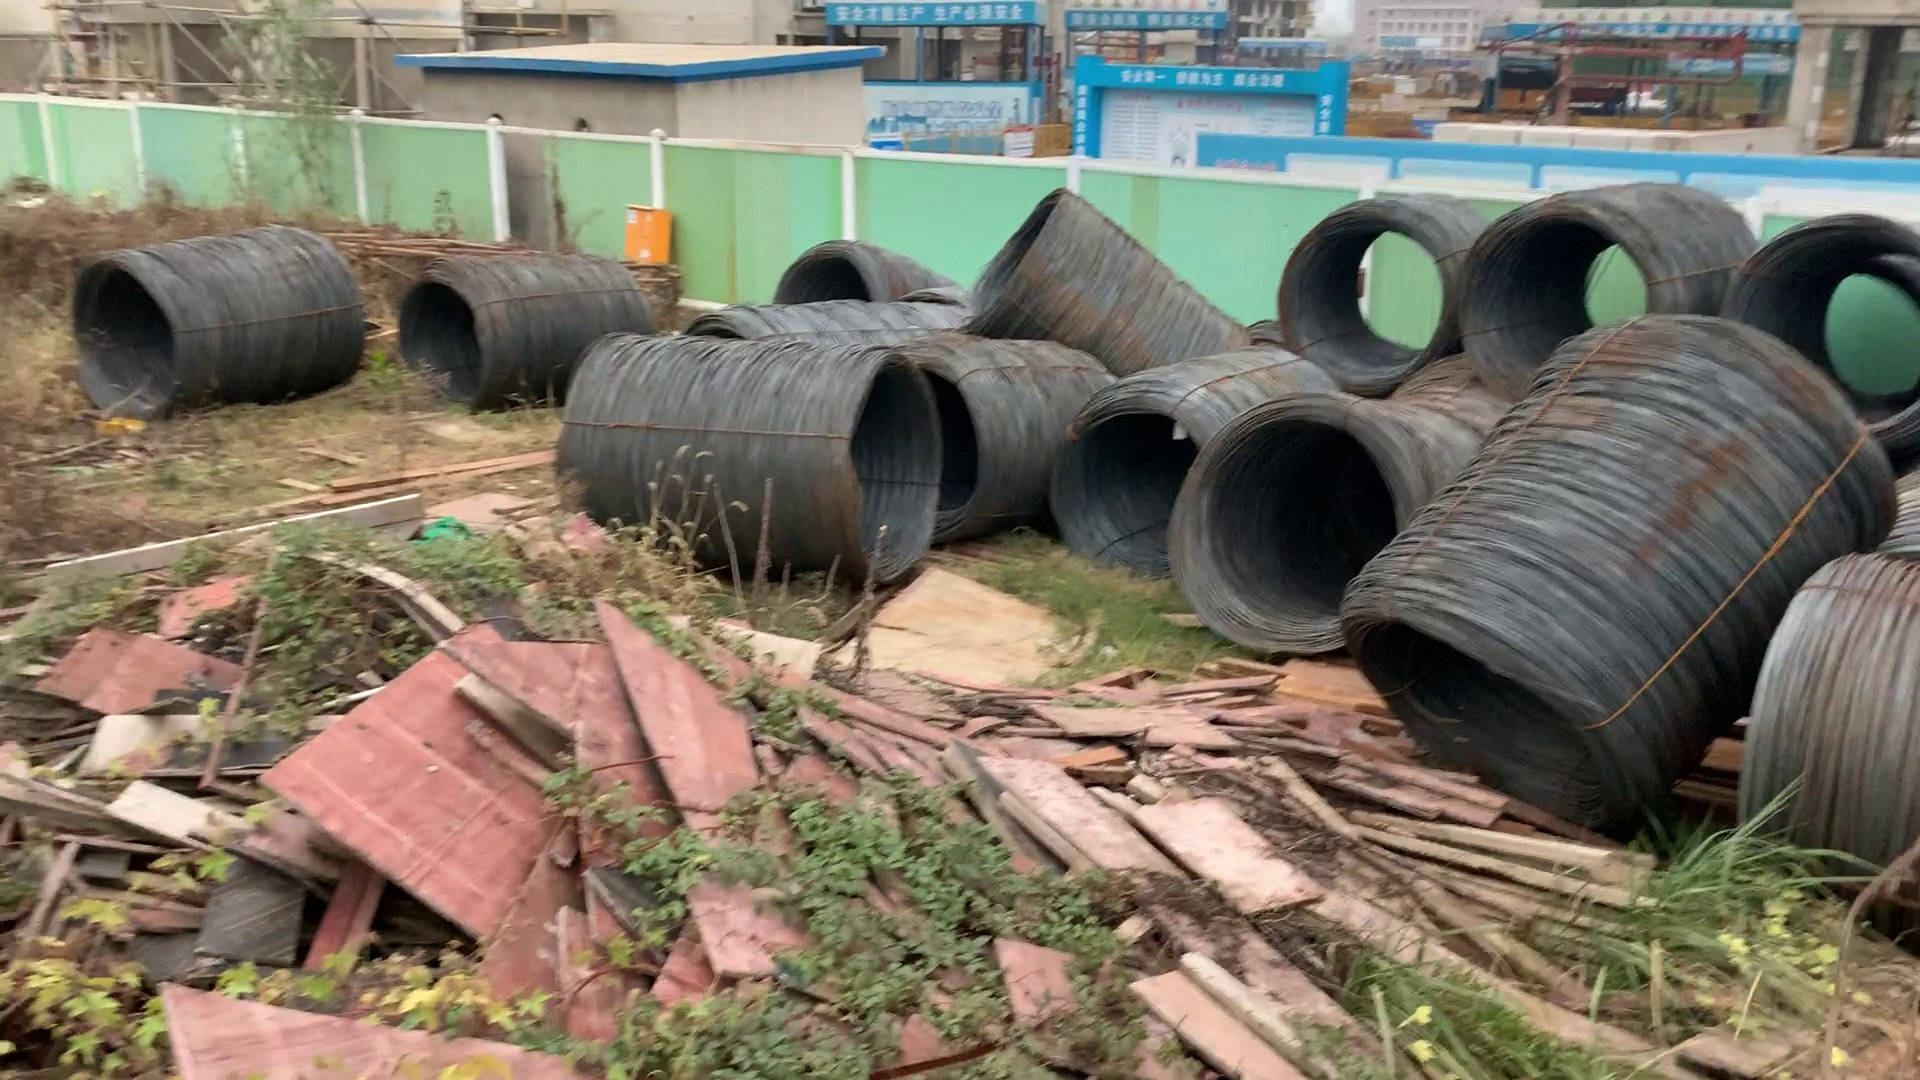coil: (1335, 599, 1652, 866), (1182, 407, 1410, 654), (1724, 227, 1920, 463), (1462, 207, 1665, 427), (1271, 207, 1455, 404), (835, 352, 953, 579), (1058, 402, 1189, 593), (57, 255, 190, 429), (895, 352, 1000, 543), (960, 196, 1083, 342), (396, 268, 488, 425), (771, 243, 882, 310)
